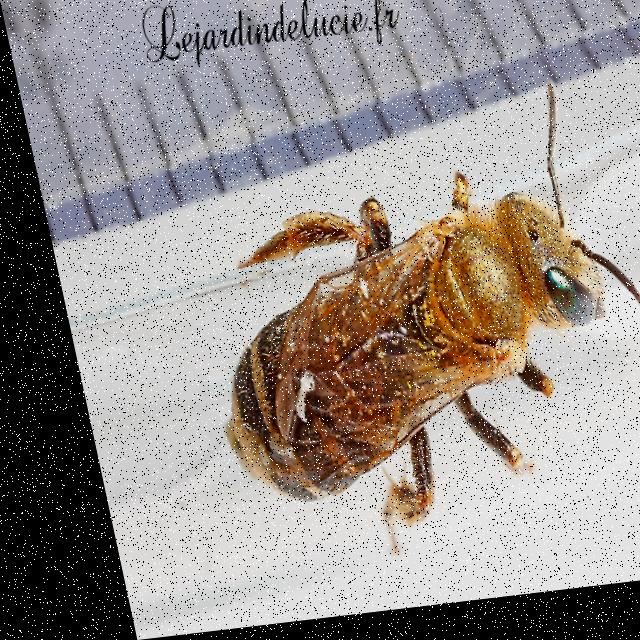Lasioglossum: (163, 84, 640, 554)
